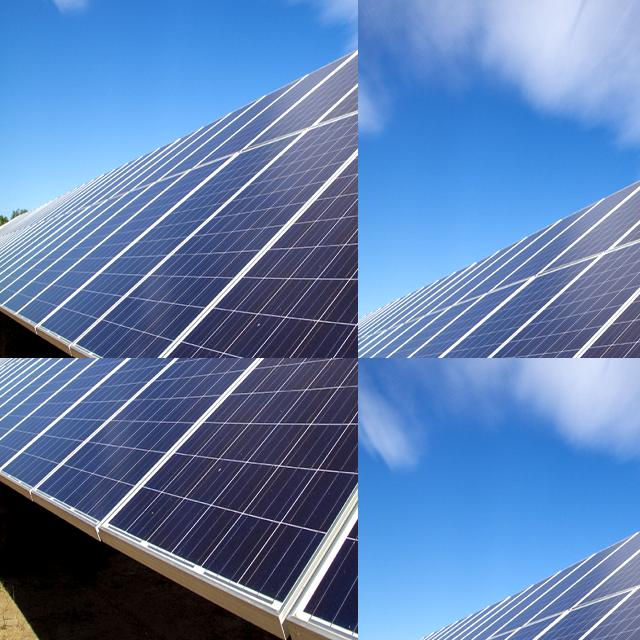dust: (400, 199, 549, 358), (588, 198, 640, 358)
shadow: (79, 358, 358, 575)
